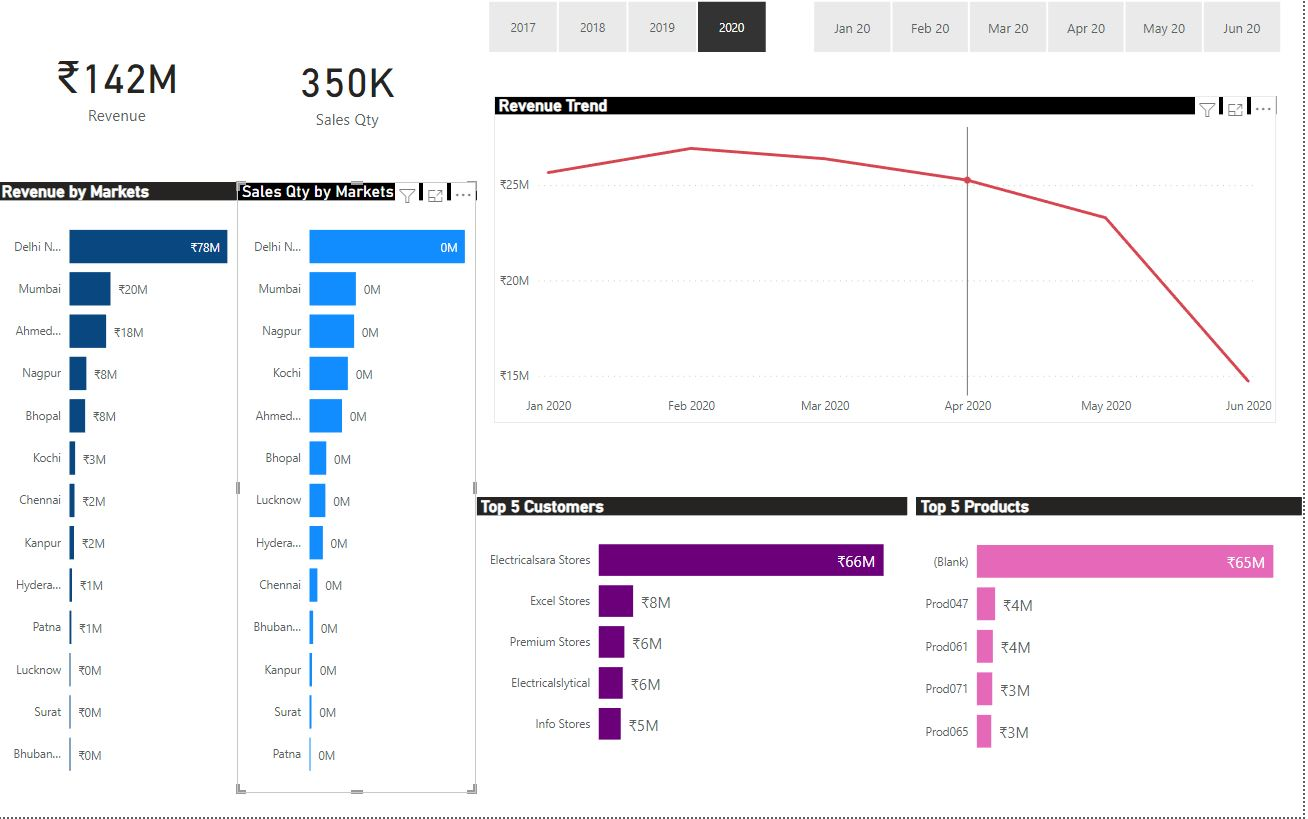

The dashboard page shown, as its layout file describes it:
{"tool":"powerbi","page":{"name":"Key Insights","canvas":[1350,850],"ordinal":0},"visuals":[{"type":"card","fields":{"Values":["BaseMeasures (2).Revenue"]},"box":[0,0,247.9,184.6],"z":0},{"type":"card","fields":{"Values":["BaseMeasures (2).Sales Qty"]},"box":[247.9,0,227.9,193.1],"z":1000},{"type":"barChart","title":"Revenue by Markets","fields":{"Y":["BaseMeasures (2).Revenue"],"Category":["sales markets.markets_name"]},"box":[0,193.1,247.9,631.9],"z":2000},{"type":"barChart","title":"Sales Qty by Markets","fields":{"Y":["BaseMeasures (2).Sales Qty"],"Category":["sales markets.markets_name"]},"box":[247.9,193.1,247.9,631.9],"z":3000},{"type":"slicer","fields":{"Values":["sales date.year"]},"box":[483.2,0,335.5,66.5],"z":4000},{"type":"slicer","fields":{"Values":["sales date.cy_date"]},"box":[818.6,0,531.7,66.5],"z":5000},{"type":"barChart","title":"Top 5 Customers","fields":{"Y":["BaseMeasures (2).Revenue"],"Category":["sales customers.custmer_name"]},"box":[495.8,519,446.2,274.3],"z":6000},{"type":"barChart","title":"Top 5 Products","fields":{"Y":["BaseMeasures (2).Revenue"],"Category":["sales products.product_code"]},"box":[950.7,519.2,399.5,282.8],"z":7000},{"type":"lineChart","title":"Revenue Trend","fields":{"Y":["BaseMeasures (2).Revenue"],"Category":["sales date.cy_date"]},"box":[513.8,104.4,809.1,338.6],"z":8000}]}

Visuals, with their boxes in screenshot pixels (x1, y1, x2, y2), scaled from the page's 1350x850 canvas onto the 1308x819 screenshot:
card - BaseMeasures (2).Revenue: rect(0, 0, 240, 178)
card - BaseMeasures (2).Sales Qty: rect(240, 0, 461, 186)
"Revenue by Markets" barChart: rect(0, 186, 240, 795)
"Sales Qty by Markets" barChart: rect(240, 186, 480, 795)
slicer - sales date.year: rect(468, 0, 793, 64)
slicer - sales date.cy_date: rect(793, 0, 1307, 64)
"Top 5 Customers" barChart: rect(480, 500, 913, 764)
"Top 5 Products" barChart: rect(921, 500, 1307, 773)
"Revenue Trend" lineChart: rect(498, 101, 1282, 427)
